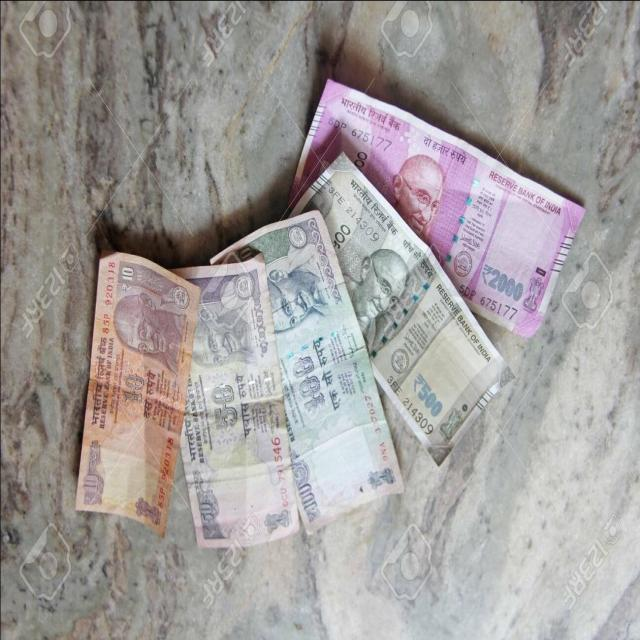50IndianRupees: (151, 261, 293, 545)
